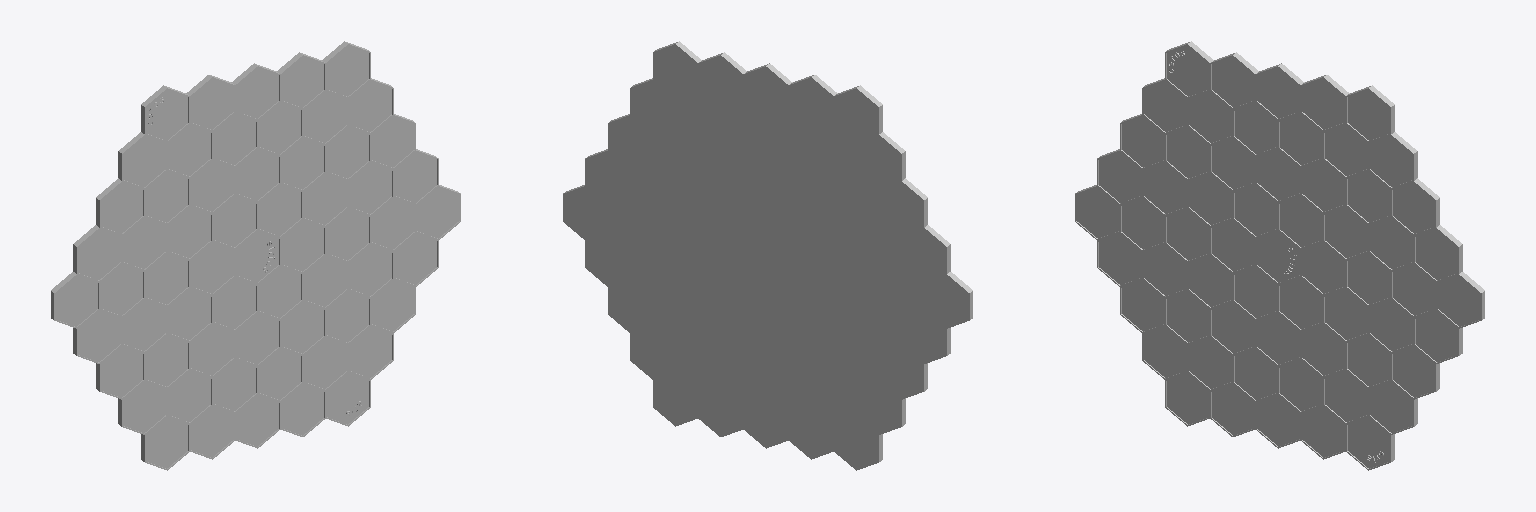
The model's file is Game Board.obj.
3 views of the same model, side by side, from view 1: azimuth 30°, elevation 25°; view 2: azimuth 150°, elevation 25°; view 3: azimuth 330°, elevation 25° (orthographic).
Parts seen in each view (by area): view 1: Body3; view 2: Body3; view 3: Body3.
Part boxes in pixels (left/top/right/bottom): Body3: left=51, top=41, right=460, bottom=470; Body3: left=563, top=41, right=972, bottom=470; Body3: left=1075, top=41, right=1484, bottom=470.
Size of the model in its own units: 36 by 32.33 by 0.6.